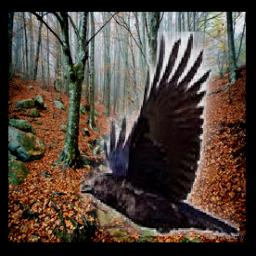Crow: (80, 32, 239, 237)
